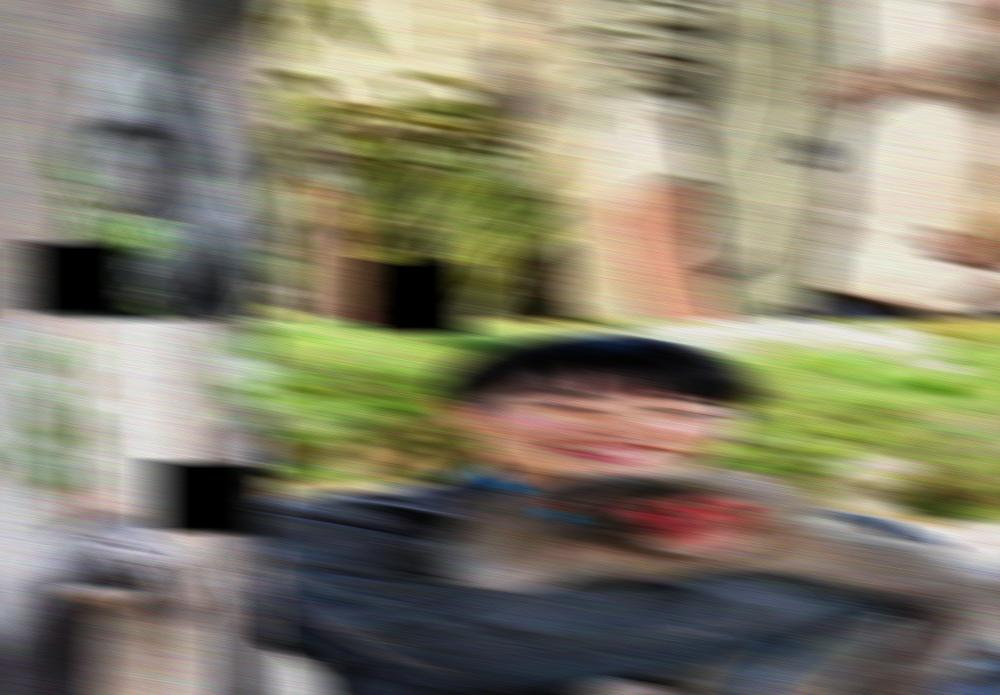Macaca fuscata: (436, 466, 1000, 695), (824, 0, 1000, 296)
chimpanzee: (0, 401, 278, 695), (53, 11, 277, 318)
human: (266, 333, 1000, 695), (556, 0, 1000, 320)
